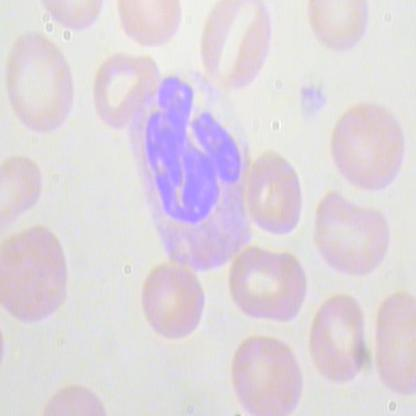RBC: (0, 22, 77, 140), (326, 96, 408, 202), (309, 190, 395, 286), (221, 326, 310, 415), (0, 222, 75, 325), (196, 1, 274, 91), (228, 244, 308, 330), (308, 288, 372, 394), (134, 262, 214, 346), (87, 49, 163, 135), (243, 147, 309, 237), (371, 284, 415, 400), (304, 1, 373, 64), (115, 1, 185, 52)
WBC: (127, 70, 271, 278)
